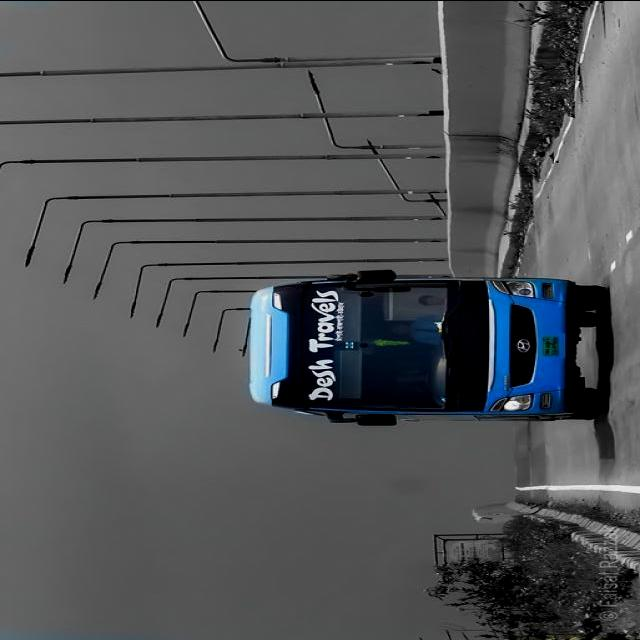bus: (249, 269, 610, 427)
